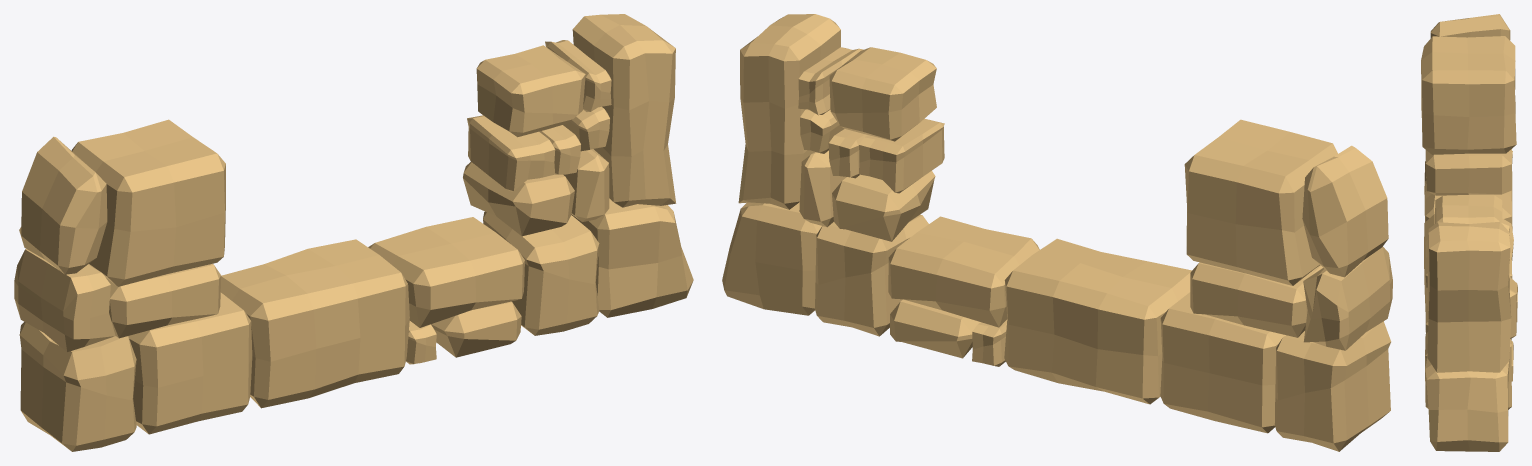
File: wall_w_hole.fbx
3 renders of one model, left to right at view 1: azimuth 30°, elevation 25°; view 2: azimuth 150°, elevation 25°; view 3: azimuth 270°, elevation 25°, orthographic. The views are drawn at different scales.
Parts seen in each view (by area): view 1: Cube.016; view 2: Cube.016; view 3: Cube.016.
Part boxes in pixels (x1,y1,x2,y2): Cube.016: [14, 14, 693, 451]; Cube.016: [722, 14, 1392, 451]; Cube.016: [1421, 14, 1517, 451].
Bounding box in the file's own units: 237 × 101 × 40.59.
